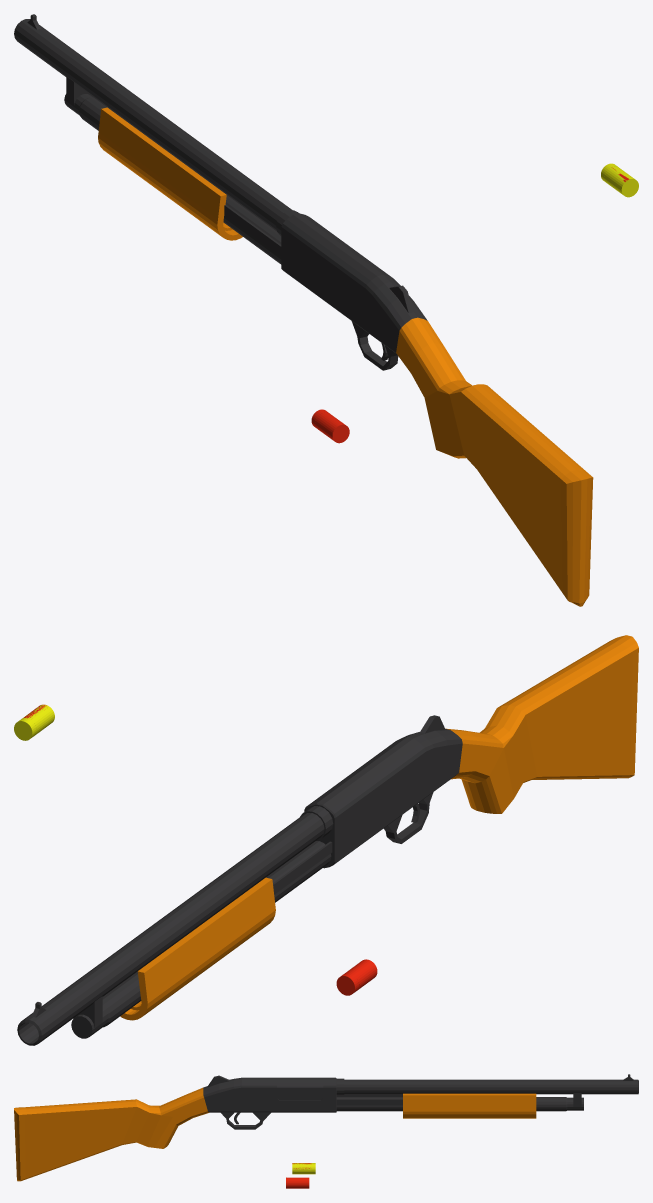
Rendered from Mossberg-1.glb.
The picture shows the model from 3 angles, top to bottom: view 1: azimuth 30°, elevation 25°; view 2: azimuth 150°, elevation 25°; view 3: azimuth 270°, elevation 25°; orthographic projection. The views are drawn at different scales.
Parts seen in each view (by area): view 1: Cube, Cube.001, Cube.006; view 2: Cube, Cube.001, Cube.006, 柱体.001, 柱体.002, Cube.003; view 3: Cube, Cube.001, Cube.006, Cube.003, 柱体.002, 柱体.001.
Part boxes in pixels (box(x1,y1,x2,y2)): Cube: box(14, 14, 427, 370); Cube.001: box(396, 317, 593, 606); Cube.006: box(98, 107, 242, 240); Cube: box(17, 715, 462, 1045); Cube.001: box(446, 635, 638, 813); Cube.006: box(120, 877, 275, 1020); 柱体.001: box(336, 959, 377, 995); 柱体.002: box(14, 704, 54, 740); Cube.003: box(273, 841, 332, 894); Cube: box(203, 1074, 638, 1129); Cube.001: box(14, 1087, 209, 1181); Cube.006: box(403, 1093, 536, 1118); Cube.003: box(277, 1085, 402, 1105); 柱体.002: box(292, 1163, 315, 1174); 柱体.001: box(286, 1177, 309, 1188).
Bounding box in the file's own units: 3.28 × 1.97 × 9.86.
